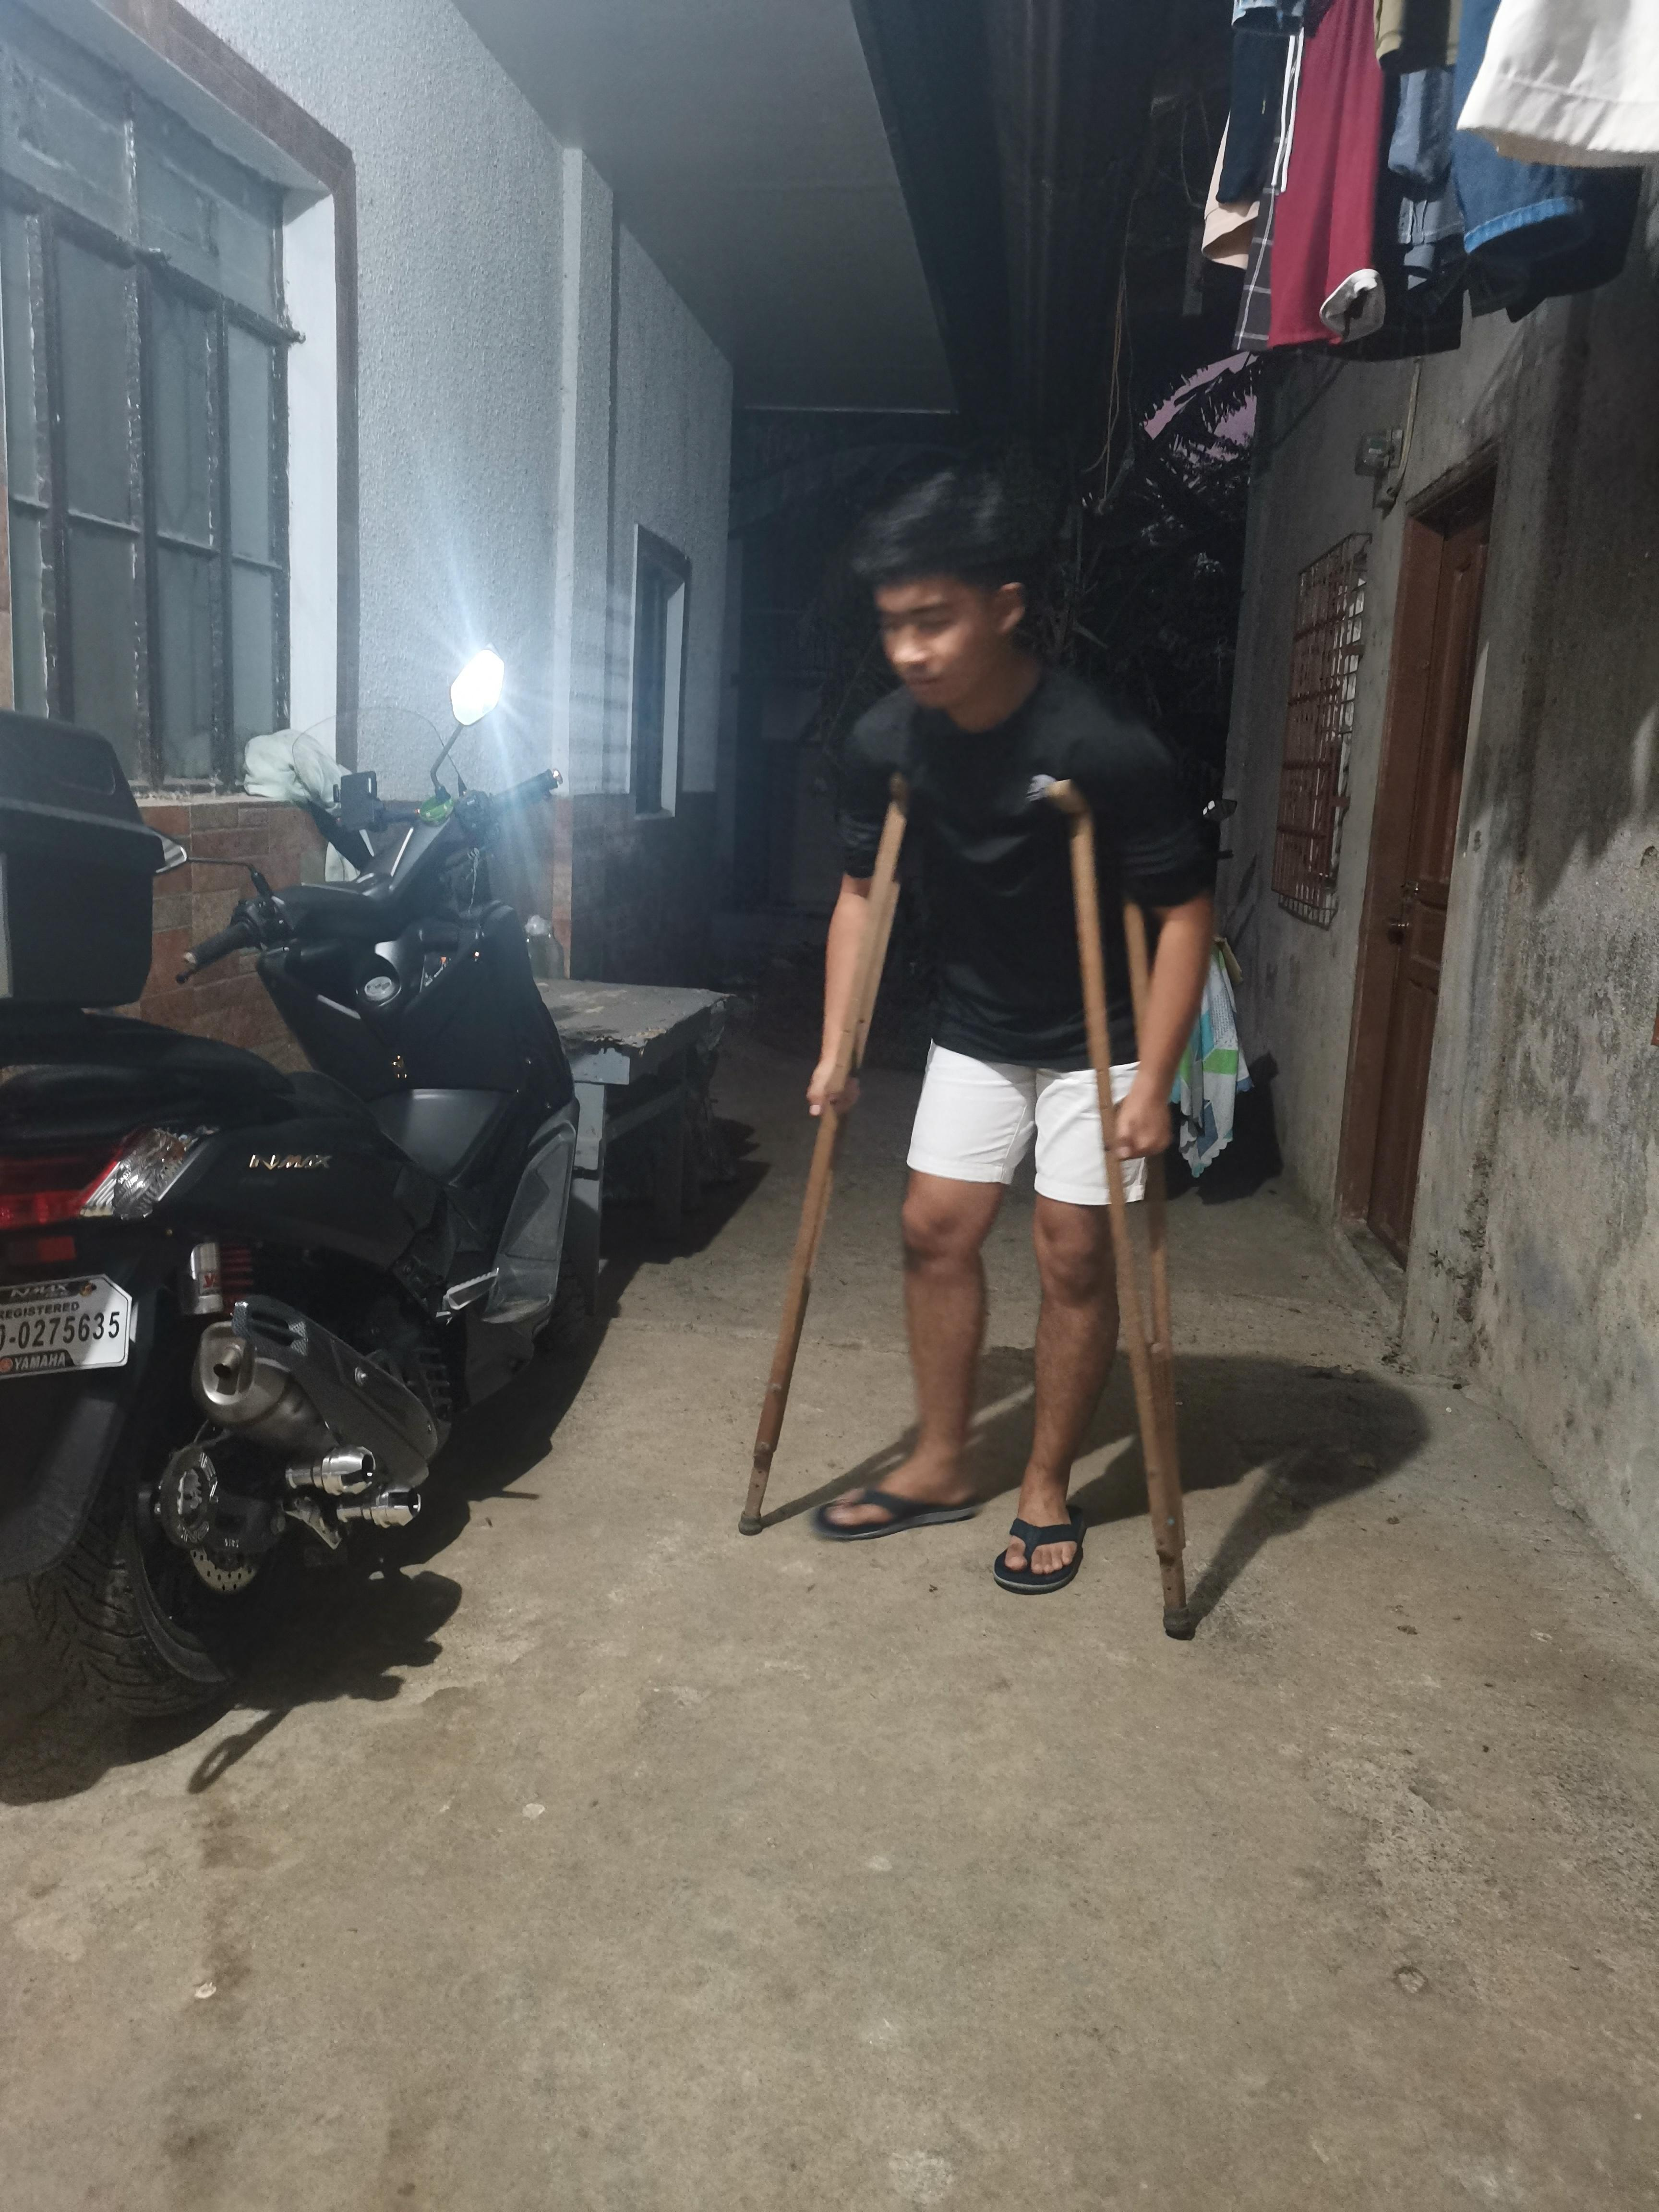crutches: (739, 474, 1209, 1641)
